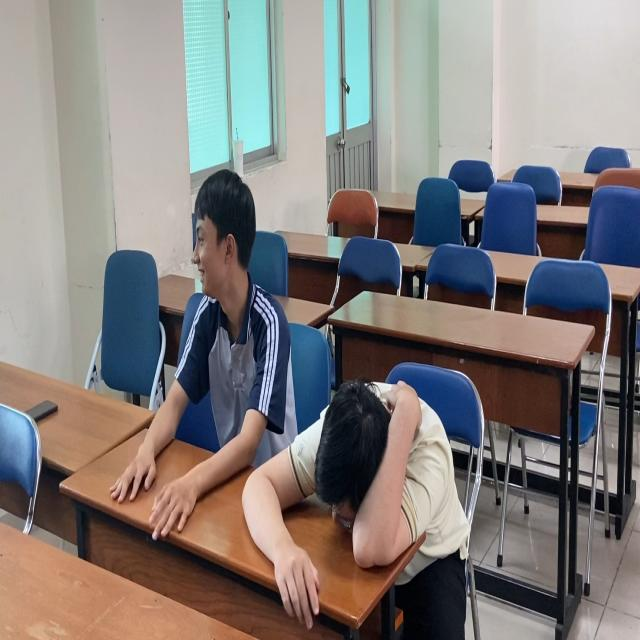sleep: (236, 369, 472, 640)
